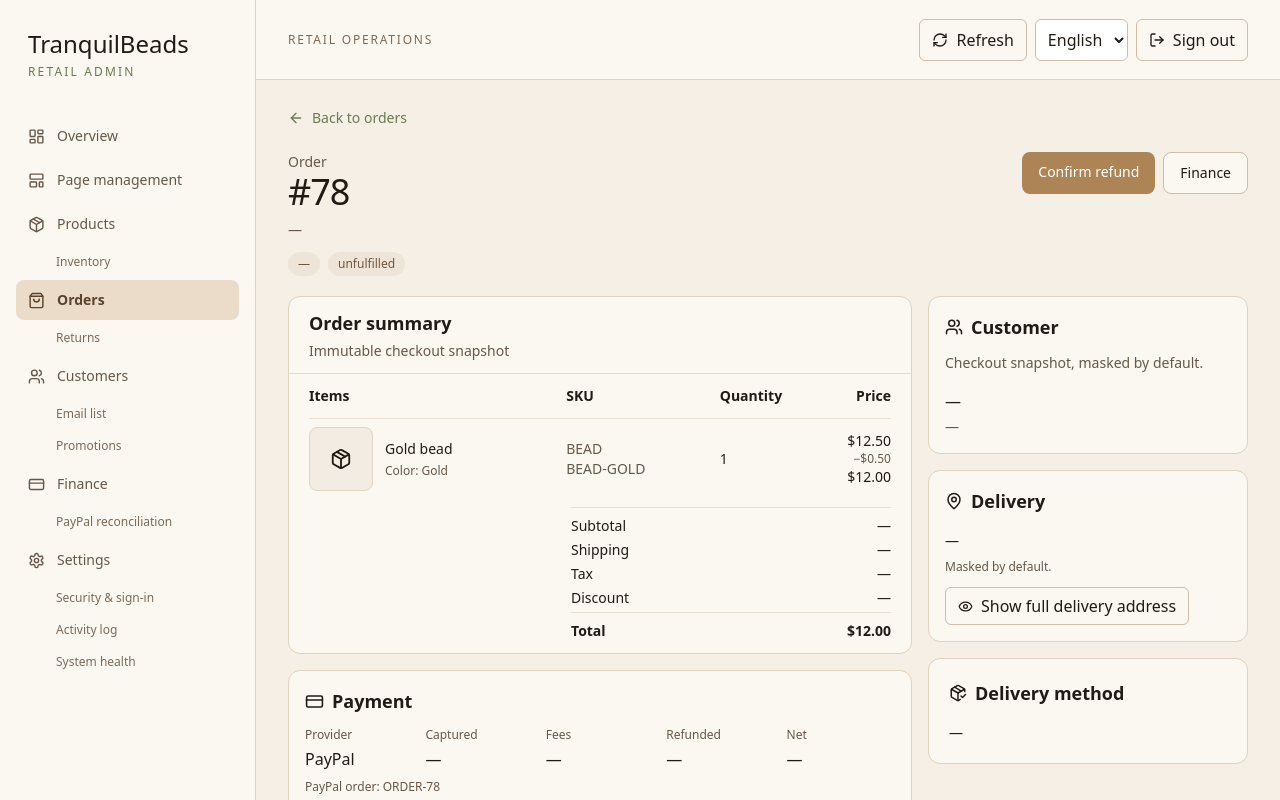
retail admin console › renders immutable order-line options in the selected admin locale
The width and height of the screenshot is (1280, 800).
Expected: the text "Color: Gold" is shown, [385,463,452,479]
Select "中文" in the dropdown named "Language" at (1081, 40), box [1035,18,1128,60]
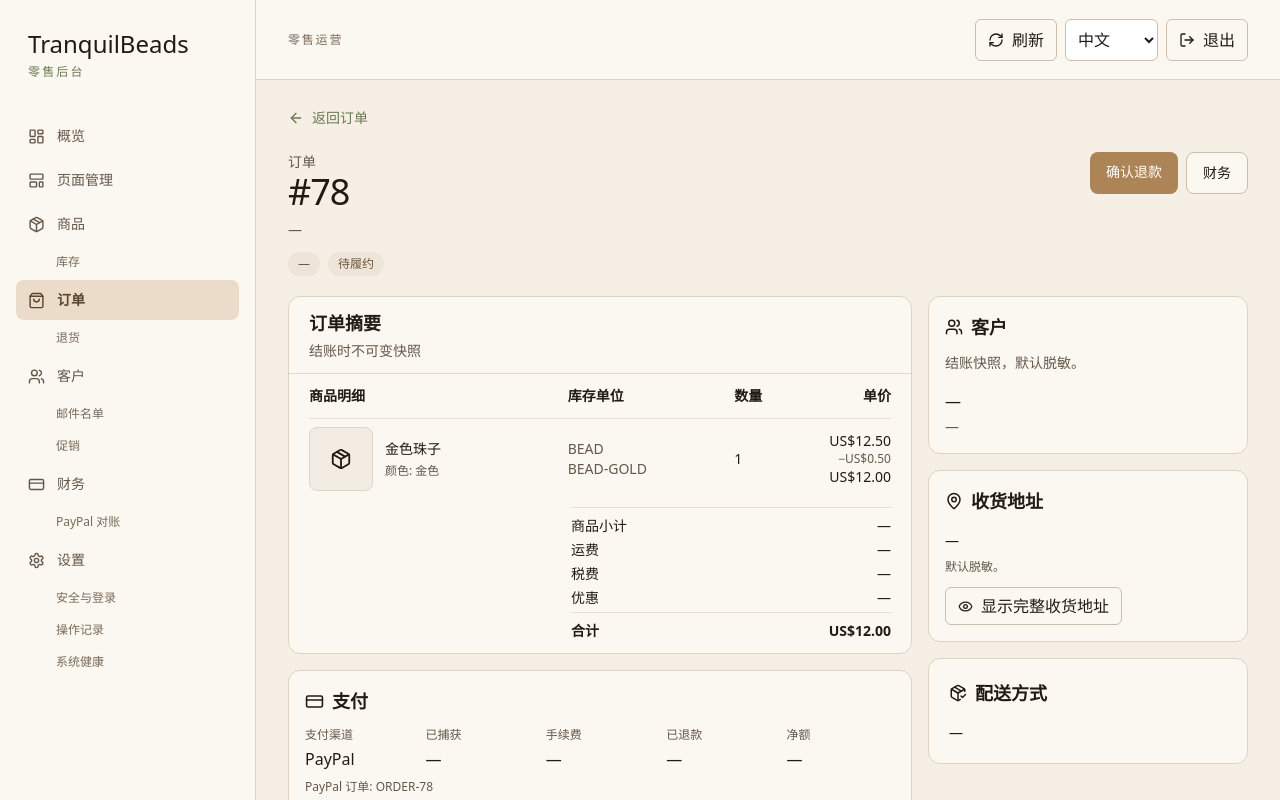
Now the text "颜色: 金色" is shown, box [385,463,441,479]
